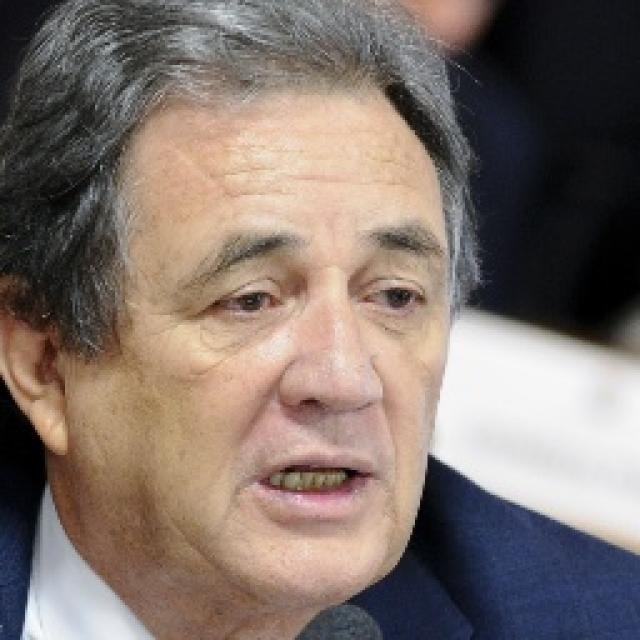earlobe: (0, 265, 70, 457)
